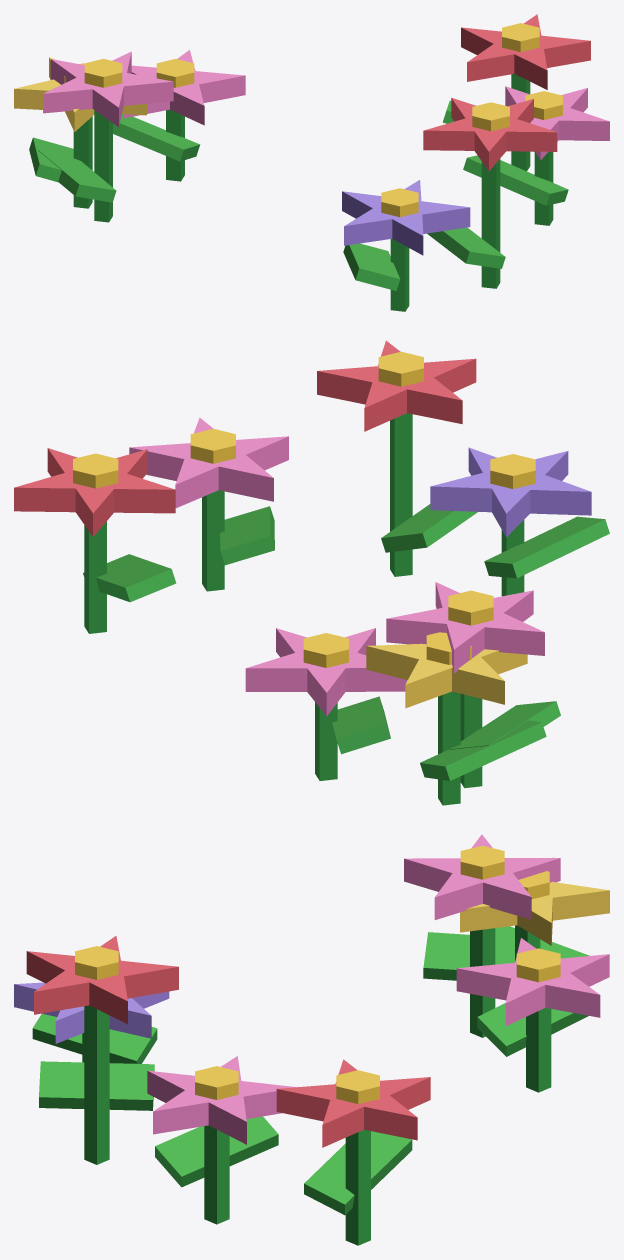
Rendered from Flowers_1.glb.
3 renders of one model, top to bottom at view 1: azimuth 30°, elevation 25°; view 2: azimuth 150°, elevation 25°; view 3: azimuth 270°, elevation 25°, orthographic. The views are drawn at different scales.
Visible parts, largest first — view 1: Flowers_1; view 2: Flowers_1; view 3: Flowers_1.
Boxes of the visible parts, x1,y1,x2,y2 form: Flowers_1: (14, 14, 609, 311); Flowers_1: (14, 340, 609, 805); Flowers_1: (14, 834, 609, 1245).
Size of the model in its own units: 5.16 by 1.77 by 4.7.
Materials: 1 (1 with a texture image).
